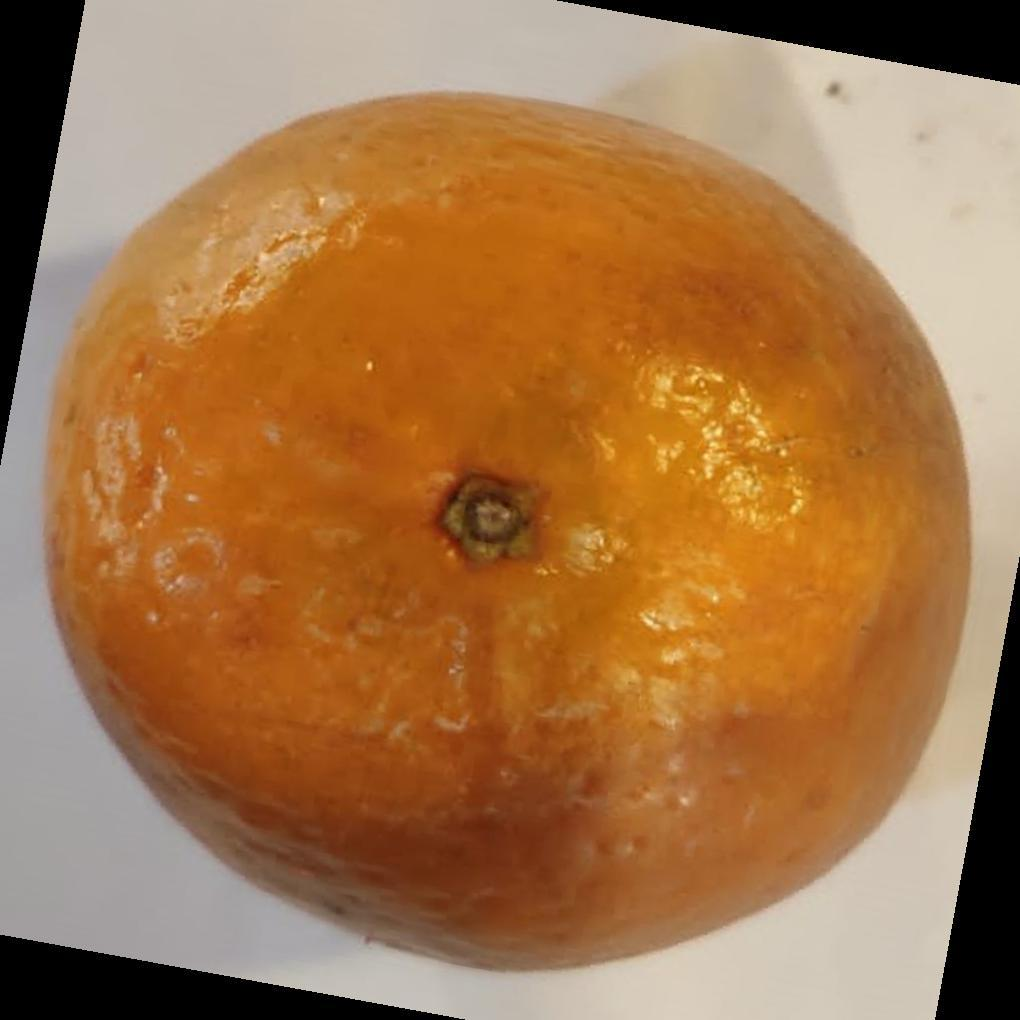FreshOrange: (39, 93, 975, 977)
